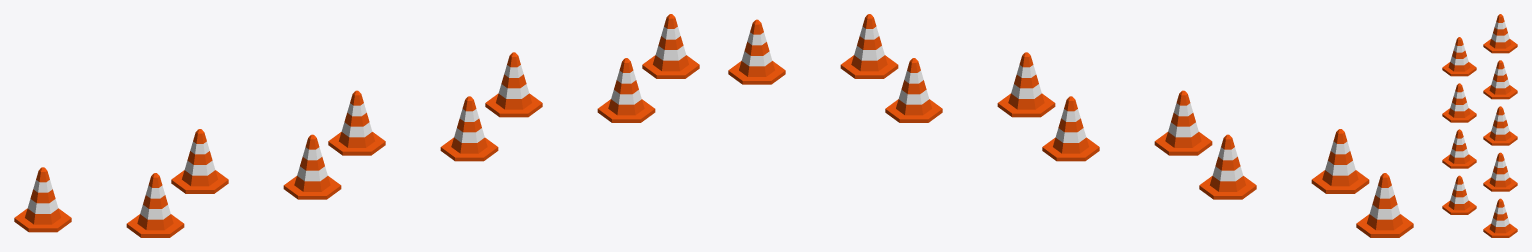
The model's file is cons9.fbx.
3 renders of one model, left to right at view 1: azimuth 30°, elevation 25°; view 2: azimuth 150°, elevation 25°; view 3: azimuth 270°, elevation 25°, orthographic. The views are drawn at different scales.
Parts seen in each view (by area): view 1: Cylinder.004; view 2: Cylinder.004; view 3: Cylinder.004.
Boxes of the visible parts, x1,y1,x2,y2 form: Cylinder.004: [14, 14, 699, 237]; Cylinder.004: [728, 14, 1413, 237]; Cylinder.004: [1442, 14, 1517, 237].
Bounding box in the file's own units: 342 × 26.2 × 55.34.
